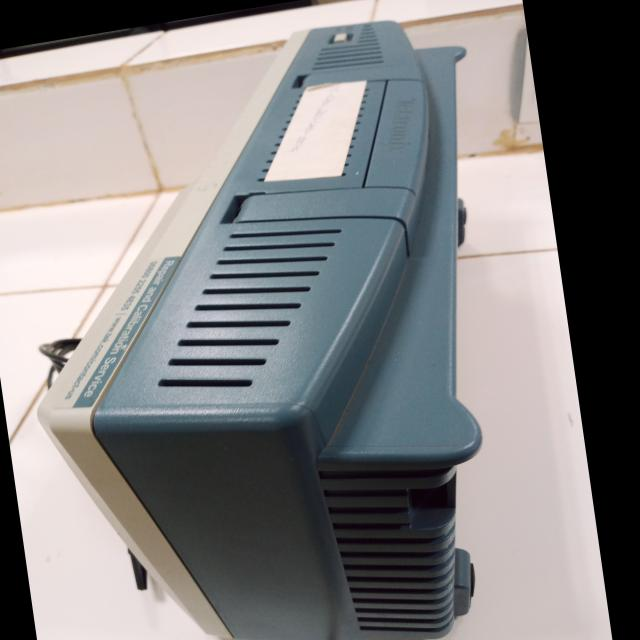Digital Oscilloscope: (0, 0, 545, 640)
